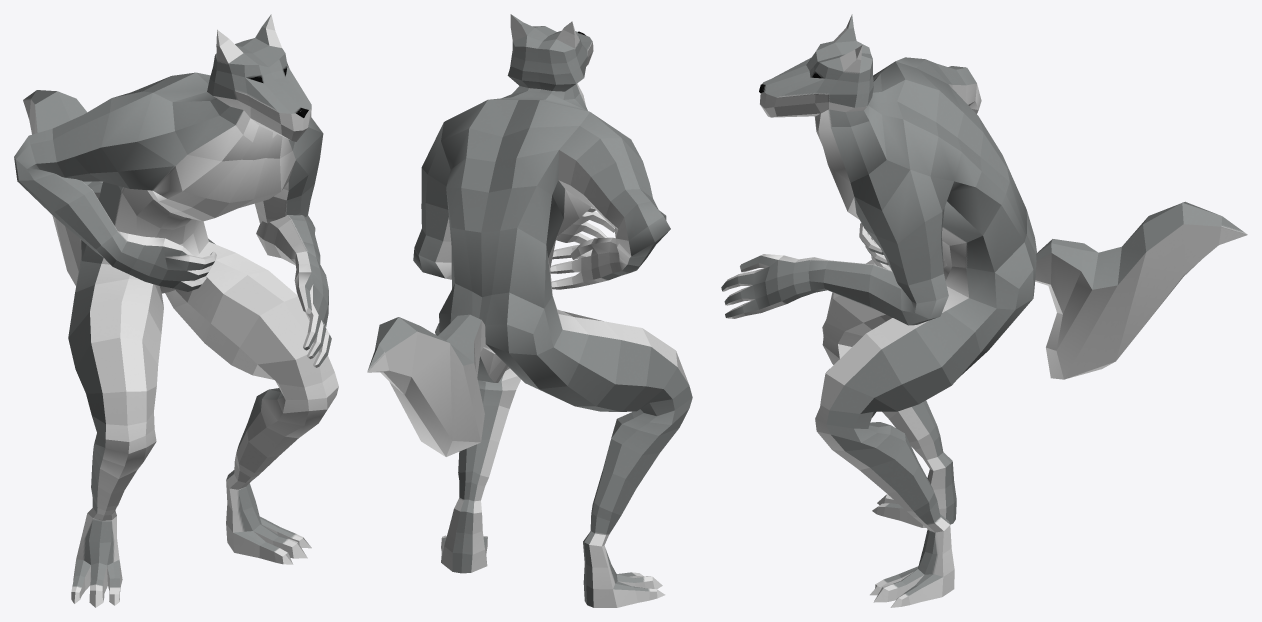
File: WolfIdle_(67).obj
3 views of the same model, side by side, from view 1: azimuth 30°, elevation 25°; view 2: azimuth 150°, elevation 25°; view 3: azimuth 270°, elevation 25° (orthographic). The views are drawn at different scales.
Visible parts, largest first — view 1: Box001; view 2: Box001; view 3: Box001.
Boxes of the visible parts, x1,y1,x2,y2 form: Box001: [14, 14, 338, 607]; Box001: [367, 14, 692, 607]; Box001: [721, 14, 1247, 607].
Size of the model in its own units: 68.47 by 132 by 116.
